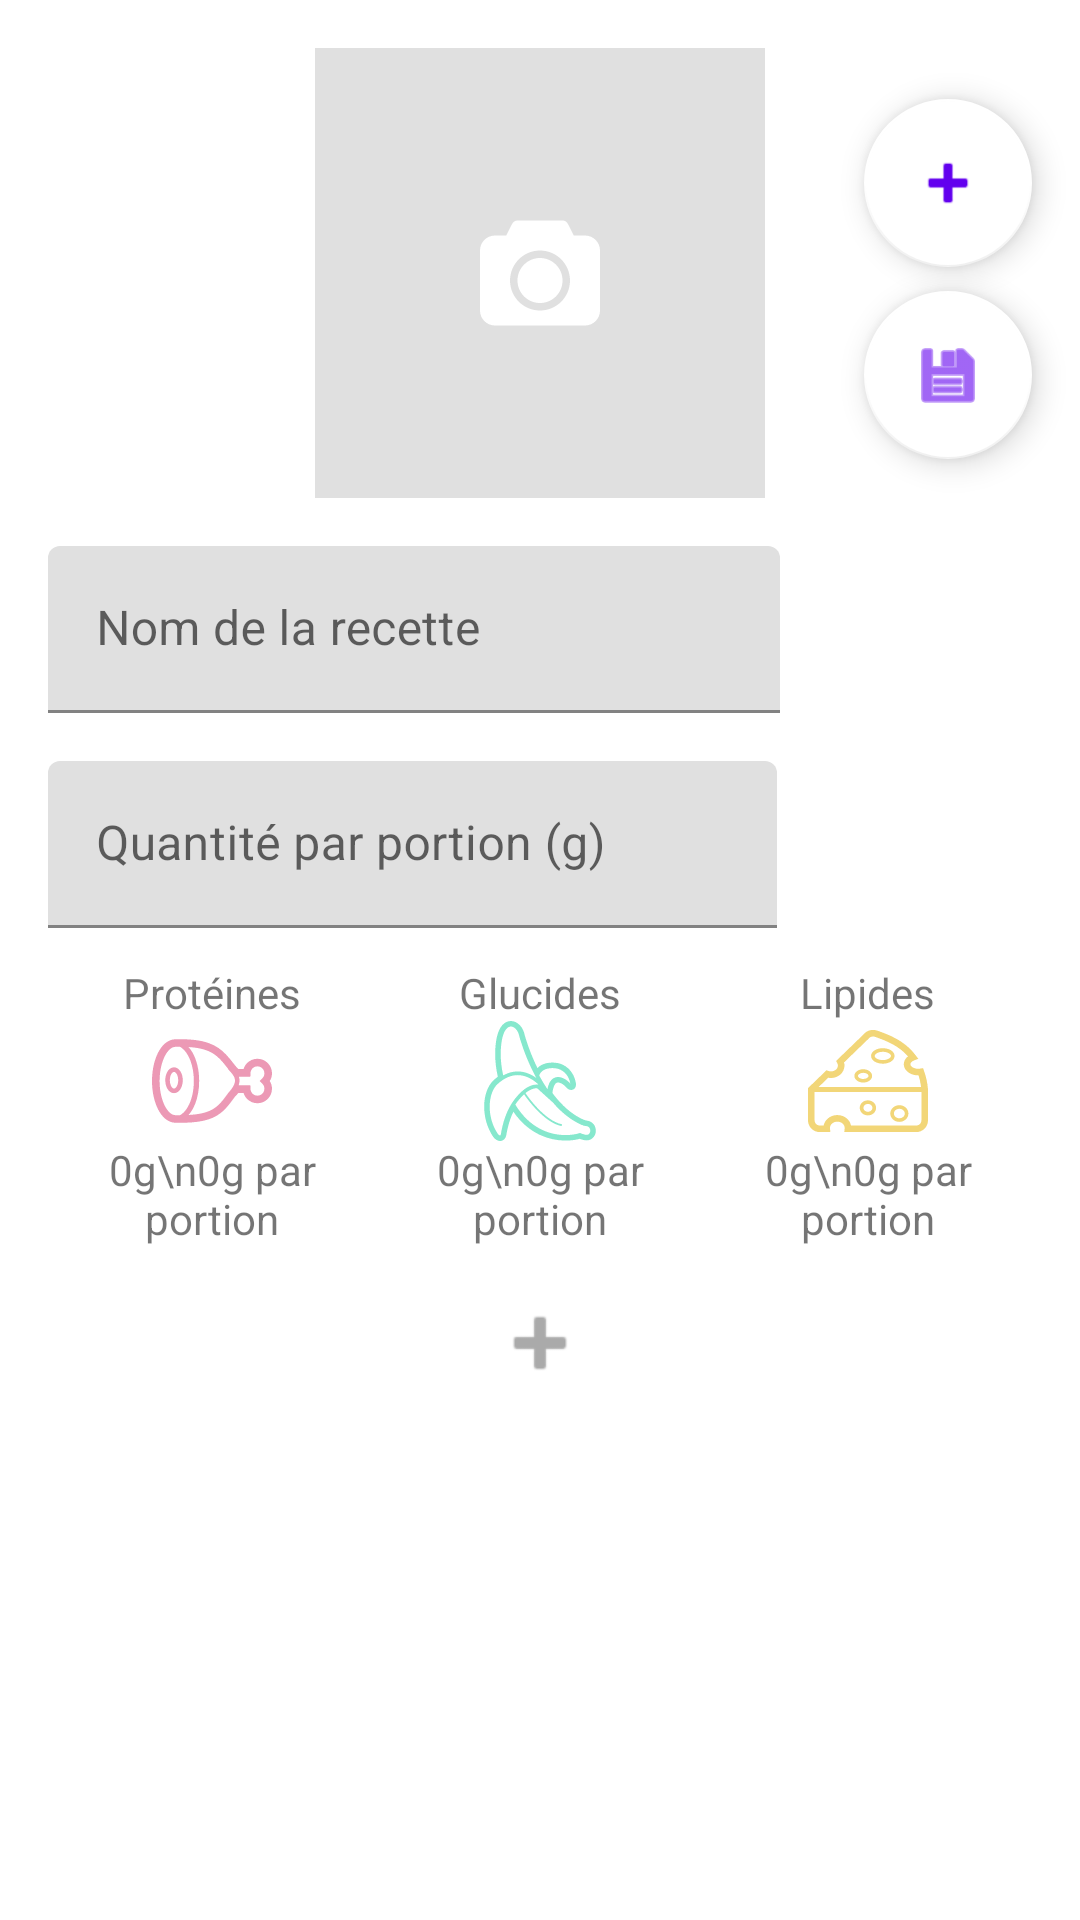

Icon click points for this 1080w x 1920h phone screenshot, format [x,y]:
Ajouter un exercice à la séance: [540,1343]
banane: [540,1081]
fromage: [868,1081]
jambonneau: [212,1081]
Prendre une photo: [540,273]
Sauvegarder: [970,395]
